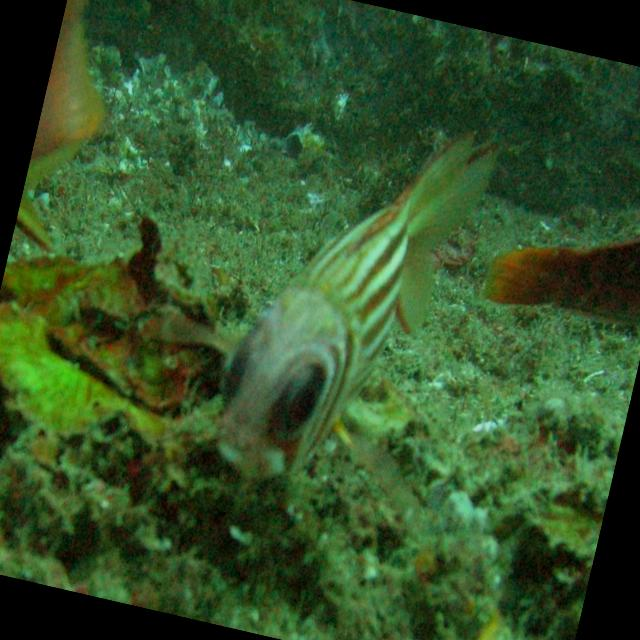Asker Baligi: (186, 69, 529, 533)
